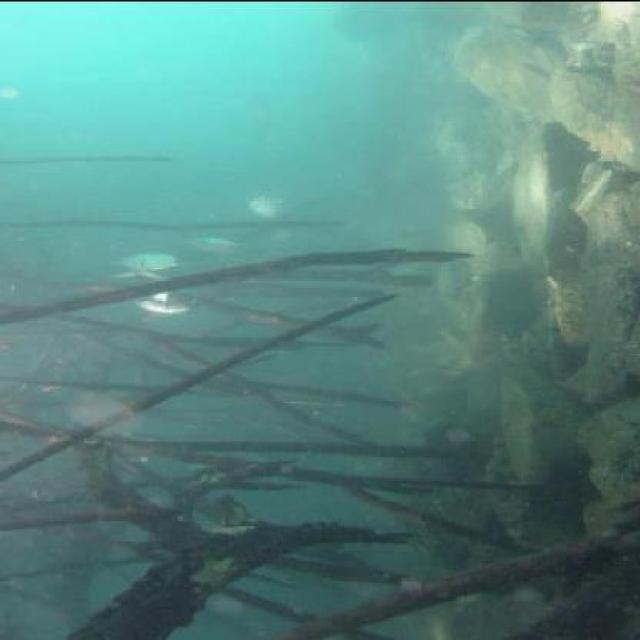Caranx_sexfasciatus_juvenile: (120, 278, 212, 316), (98, 246, 178, 276), (241, 184, 302, 218), (179, 226, 247, 254)
